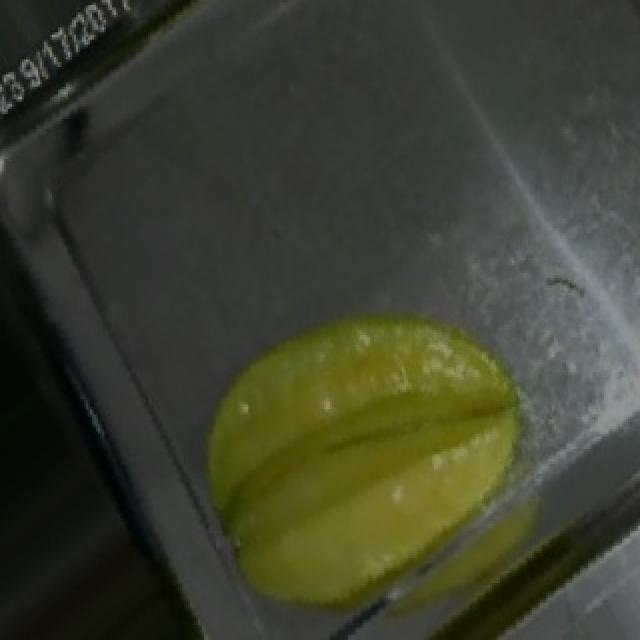fruit: (84, 176, 608, 640)
